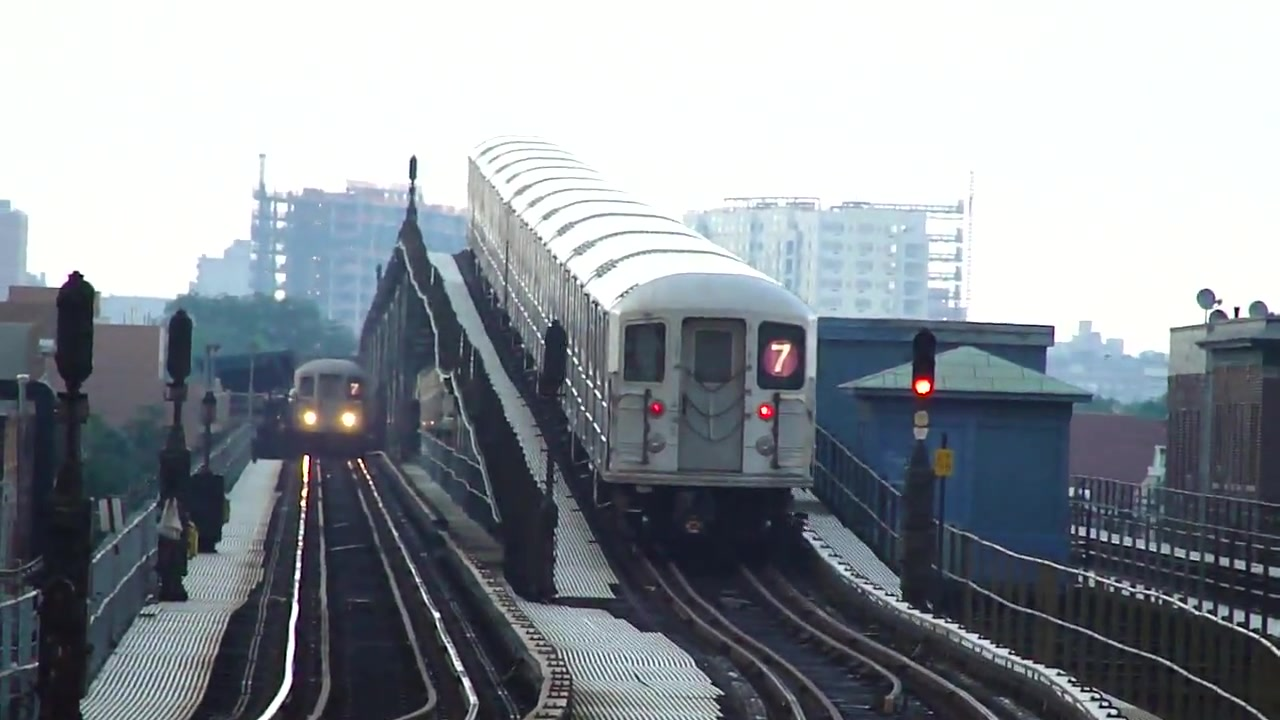train: (464, 135, 822, 548)
